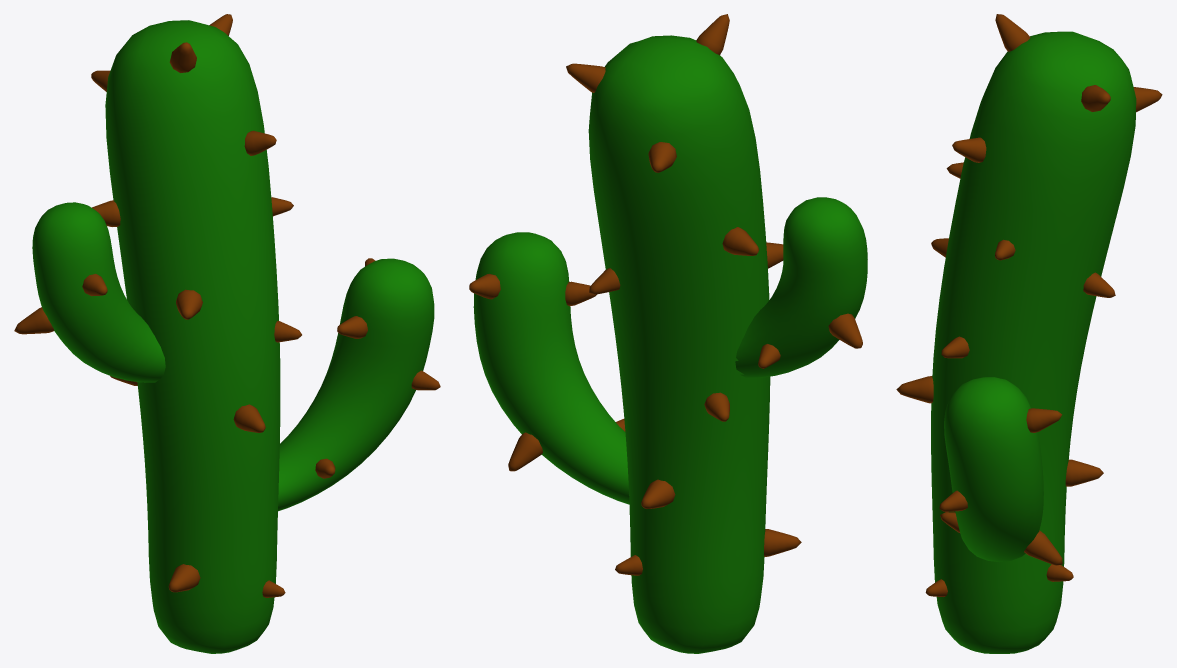
File: cactus.fbx
The picture shows the model from 3 angles, left to right: view 1: azimuth 30°, elevation 25°; view 2: azimuth 150°, elevation 25°; view 3: azimuth 270°, elevation 25°; orthographic projection. The views are drawn at different scales.
Visible parts, largest first — view 1: pCylinder4, pCylinder5, pCylinder6, pCone31, pCone24, pCone32, pCone26, pCone44; view 2: pCylinder4, pCylinder5, pCylinder6, pCone29, pCone24, pCone26, pCone30, pCone36, pCone27, pCone31, pCone41, pCone42 (+1 smaller); view 3: pCylinder4, pCylinder5, pCone26, pCone29, pCone36, pCone32, pCone42, pCone33, pCone27, pCone34, pCone39, pCone41 (+1 smaller).
Part boxes in pixels (x1,y1,x2,y2): pCylinder4: (105,20,280,653); pCylinder5: (278,258,434,511); pCylinder6: (32,202,165,382); pCone31: (168,564,200,592); pCone24: (14,307,54,334); pCone32: (233,404,265,432); pCone26: (169,42,196,72); pCone44: (176,289,202,319); pCylinder4: (588,35,770,653); pCylinder5: (473,232,629,504); pCylinder6: (735,197,867,377); pCone29: (508,432,542,471); pCone24: (828,313,862,348); pCone26: (696,14,729,55); pCone30: (722,227,758,255); pCone36: (641,479,675,508); pCone27: (566,63,605,92); pCone31: (764,529,801,556); pCone41: (648,142,676,172); pCone42: (469,273,500,299); pCylinder4: (931,31,1136,653); pCylinder5: (944,377,1043,562); pCone26: (995,14,1030,51); pCone29: (1024,530,1062,565); pCone36: (1065,459,1103,486); pCone32: (896,376,933,403); pCone42: (1026,408,1062,432); pCone33: (952,137,986,162); pCone27: (1081,85,1110,111); pCone34: (1083,272,1115,297); pCone39: (941,336,969,358); pCone41: (1133,87,1162,112).
Bounding box in the file's own units: 130 × 193 × 76.11.
